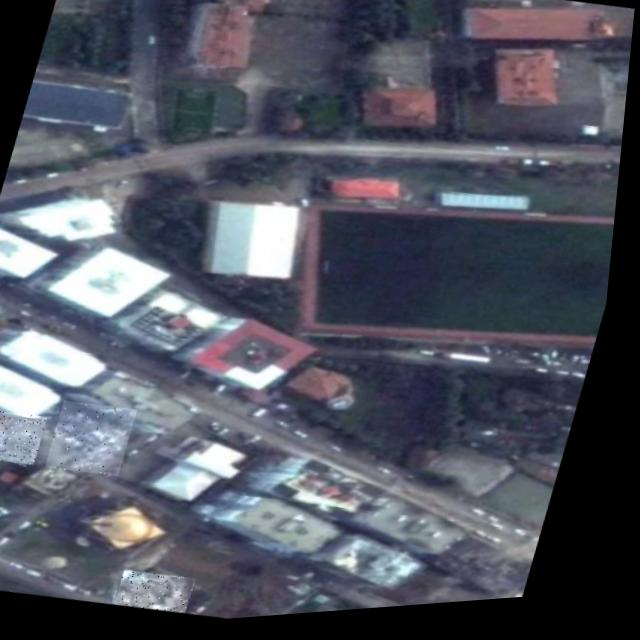Rubble: (53, 398, 146, 483), (125, 568, 207, 621), (0, 404, 55, 469), (0, 289, 0, 332)
